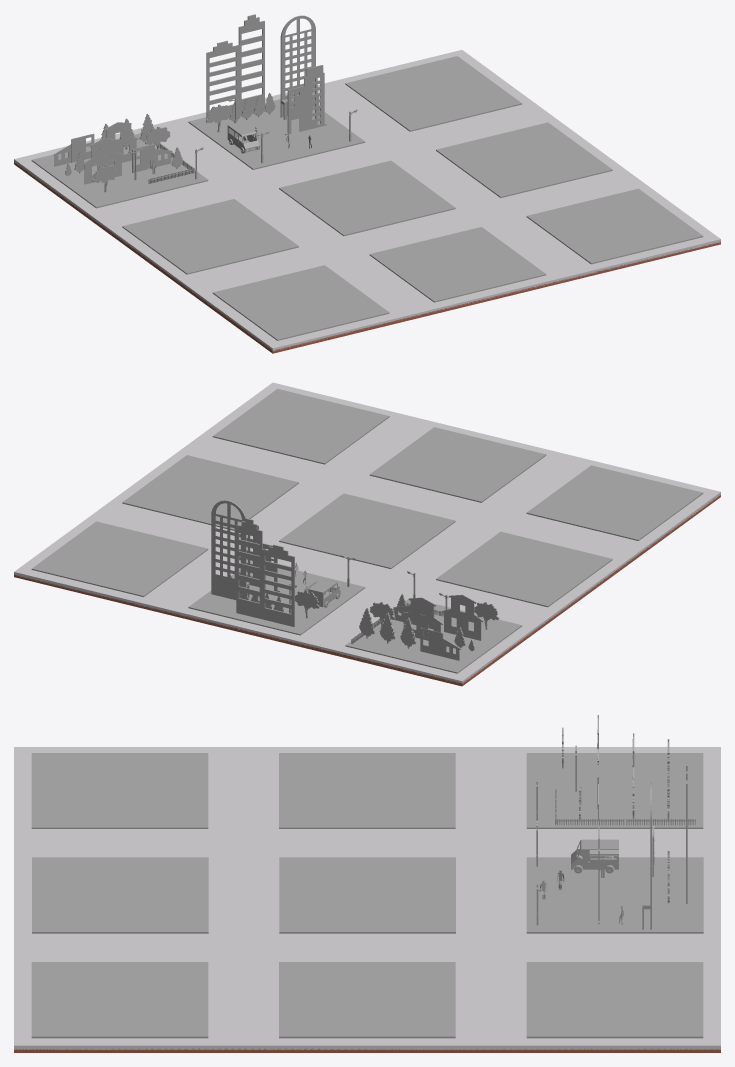
The model's file is town.gltf.
The picture shows the model from 3 angles, top to bottom: view 1: azimuth 30°, elevation 25°; view 2: azimuth 150°, elevation 25°; view 3: azimuth 270°, elevation 25°; orthographic projection. The views are drawn at different scales.
Visible parts, largest first — view 1: ground01, 平面.021, 平面.016, 平面.020, 平面.019, 平面.015, 平面.017, 平面.018, 平面.001, 平面, ground02, buillding02 (+8 smaller); view 2: ground01, 平面.020, 平面.015, 平面.016, 平面.019, 平面.021, 平面.017, 平面.018, 平面, 平面.001, ground02, buillding02 (+7 smaller); view 3: ground01, 平面.015, 平面.021, 平面.017, 平面.018, 平面.020, 平面.019, 平面.016, 平面, 平面.001, ground02, kitchenCar (+1 smaller).
Boxes of the visible parts, x1,y1,x2,y2 form: ground01: (14,50,720,351); 平面.021: (526,188,703,264); 平面.016: (122,199,298,274); 平面.020: (369,227,546,302); 平面.019: (212,265,389,340); 平面.015: (345,56,522,131); 平面.017: (279,160,455,236); 平面.018: (436,122,612,197); 平面.001: (188,99,365,169); 平面: (31,133,208,208); ground02: (14,162,720,353); buillding02: (280,15,318,119); ground01: (14,382,720,683); 平面.020: (369,427,546,502); 平面.015: (31,521,208,596); 平面.016: (436,531,612,607); 平面.019: (526,465,703,540); 平面.021: (212,389,389,464); 平面.017: (279,493,455,568); 平面.018: (122,455,298,530); 平面: (345,598,522,673); 平面.001: (188,561,365,635); ground02: (14,495,720,686); buillding02: (211,500,249,600); ground01: (14,747,720,1049); 平面.015: (526,962,703,1038); 平面.021: (31,962,208,1038); 平面.017: (279,857,455,933); 平面.018: (279,962,455,1038); 平面.020: (32,857,208,933); 平面.019: (31,753,208,828); 平面.016: (279,753,455,828); 平面: (526,753,703,828); 平面.001: (526,857,703,933); ground02: (14,1048,720,1052); kitchenCar: (571,839,618,873).
Size of the model in its own units: 40 by 8.84 by 40.
